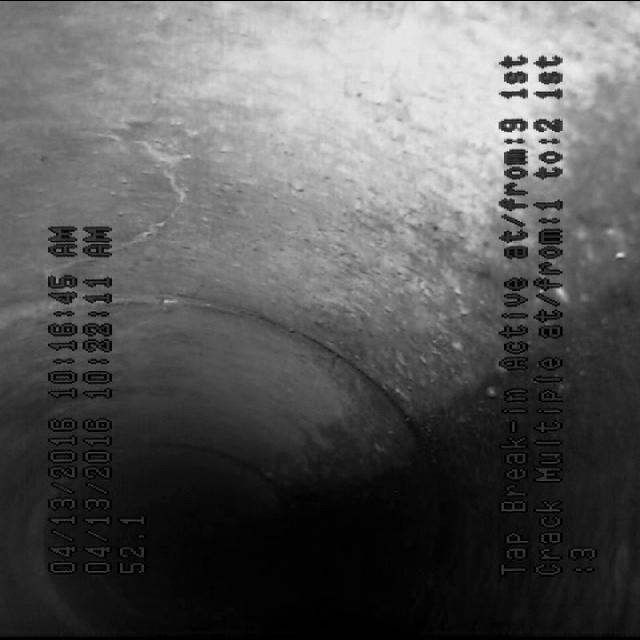Crack: (32, 106, 204, 268)
